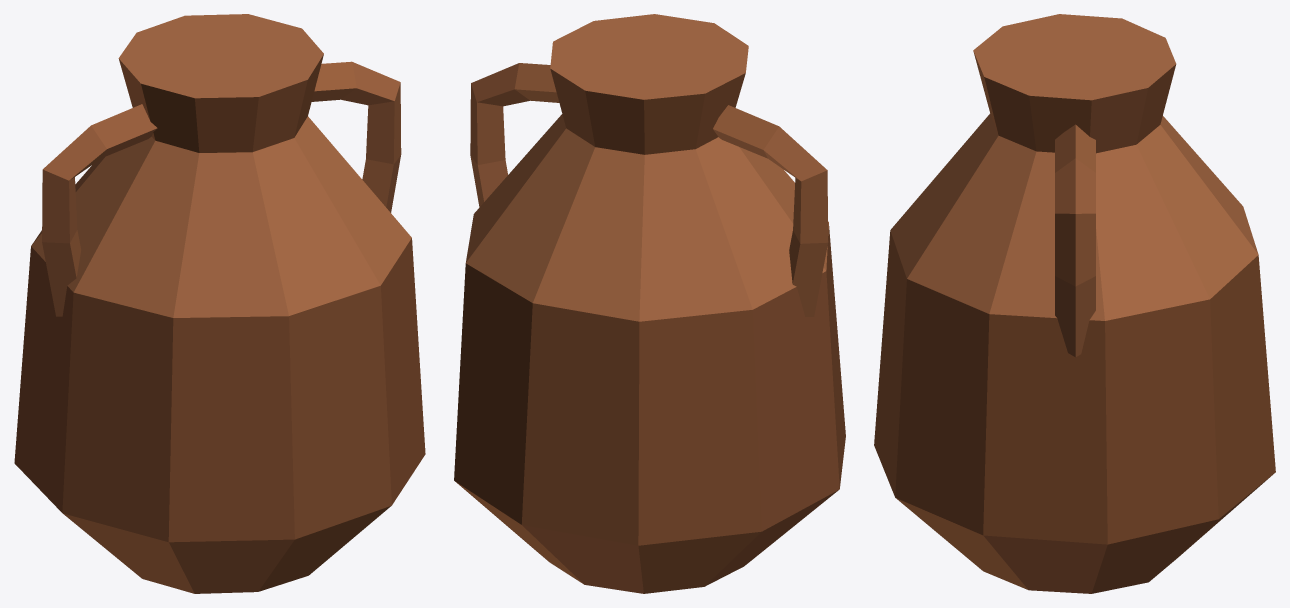
Rendered from waterjar.glb.
3 renders of one model, left to right at view 1: azimuth 30°, elevation 25°; view 2: azimuth 150°, elevation 25°; view 3: azimuth 270°, elevation 25°, orthographic.
Parts seen in each view (by area): view 1: base; view 2: base; view 3: base.
Part boxes in pixels (x1,y1,x2,y2): base: (14,14,425,593); base: (454,14,845,593); base: (874,14,1275,593).
Size of the model in its own units: 0.2426 by 0.32 by 0.2358.
